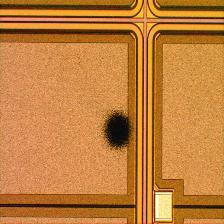PO CONTAMINATION: (95, 106, 143, 154)
